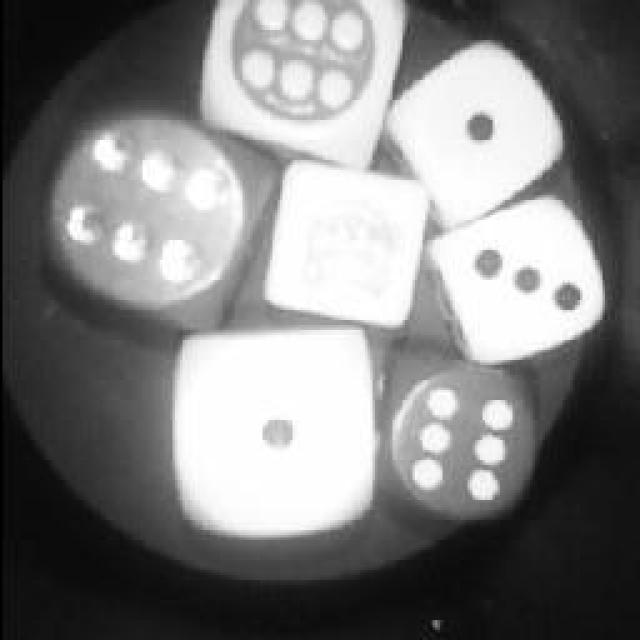dice_1: (160, 322, 380, 560), (380, 35, 568, 233)
dice_3: (415, 195, 610, 377)
dice_6: (12, 95, 288, 337), (178, 0, 420, 175), (370, 350, 548, 530)
